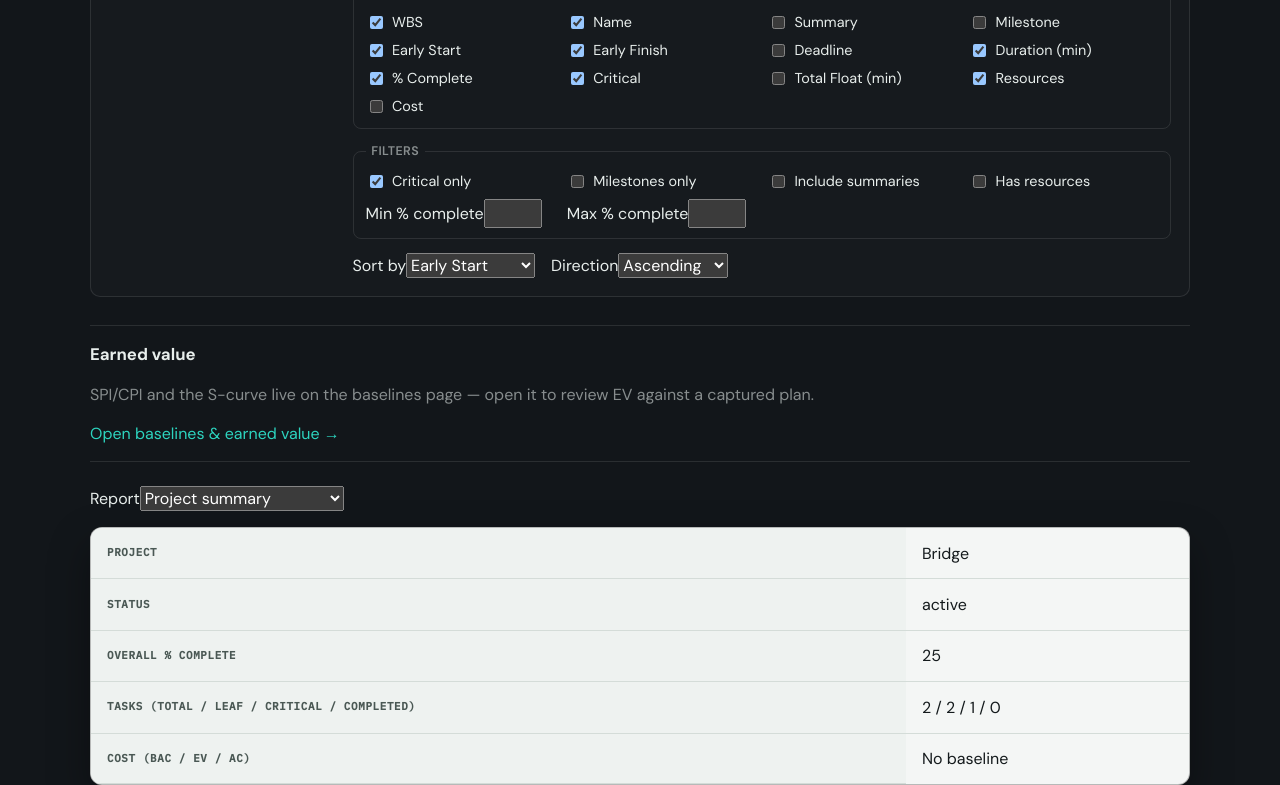
Scenario: ReportsPage › selecting a report renders its table
(page scrolled)
Check: the element with test id "report-table" is shown, box x1=90 y1=527 x2=1190 y2=784
Check: the text "Bridge" is shown, box x1=906 y1=528 x2=1189 y2=579
Select "Critical tasks" in the dropdown with test id "report-picker". click: (242, 498)
box: x1=140 y1=486 x2=344 y2=511
(page scrolled)
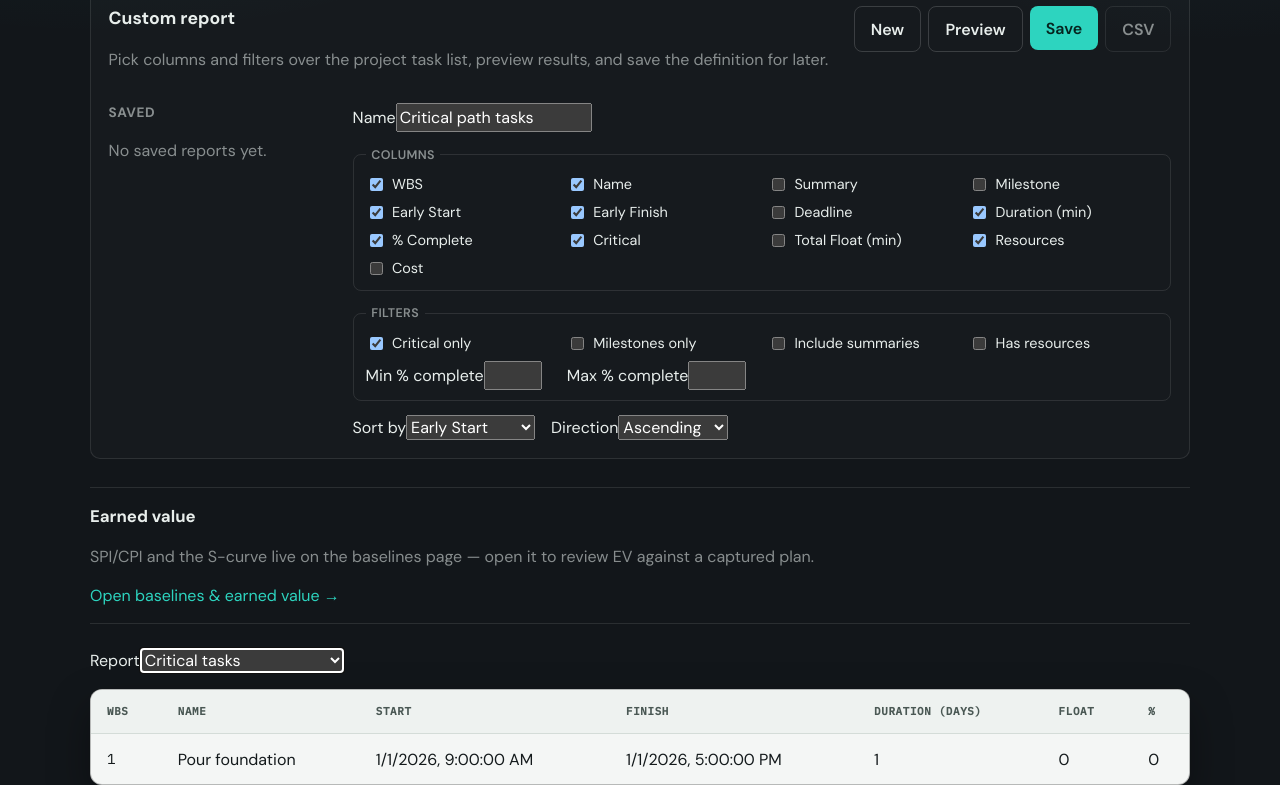
Check: the text "Pour foundation" is shown, box x1=162 y1=734 x2=360 y2=784
